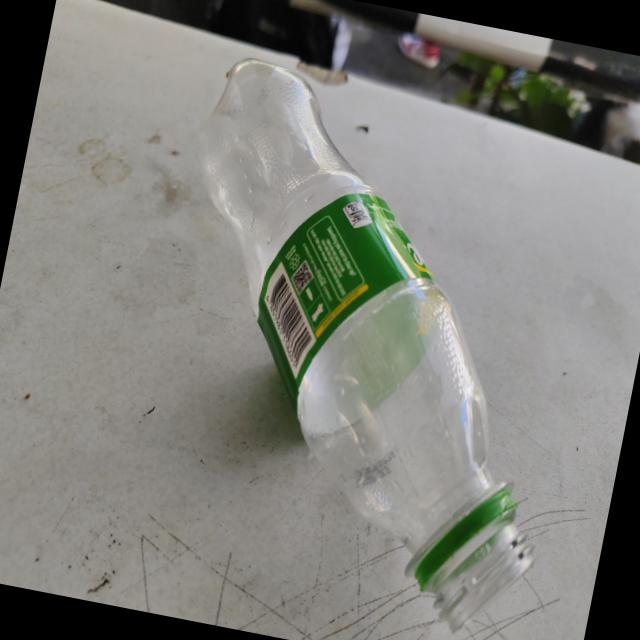Bottle: (201, 59, 533, 631)
